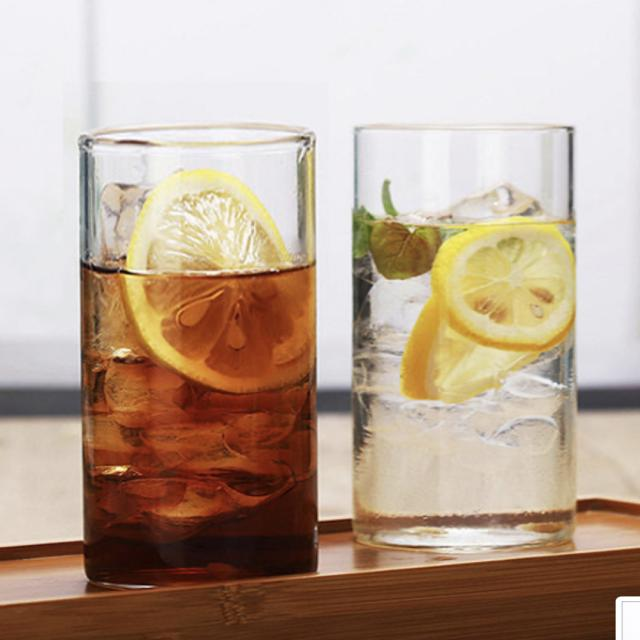recyclable: (57, 107, 338, 596), (350, 80, 590, 566)
